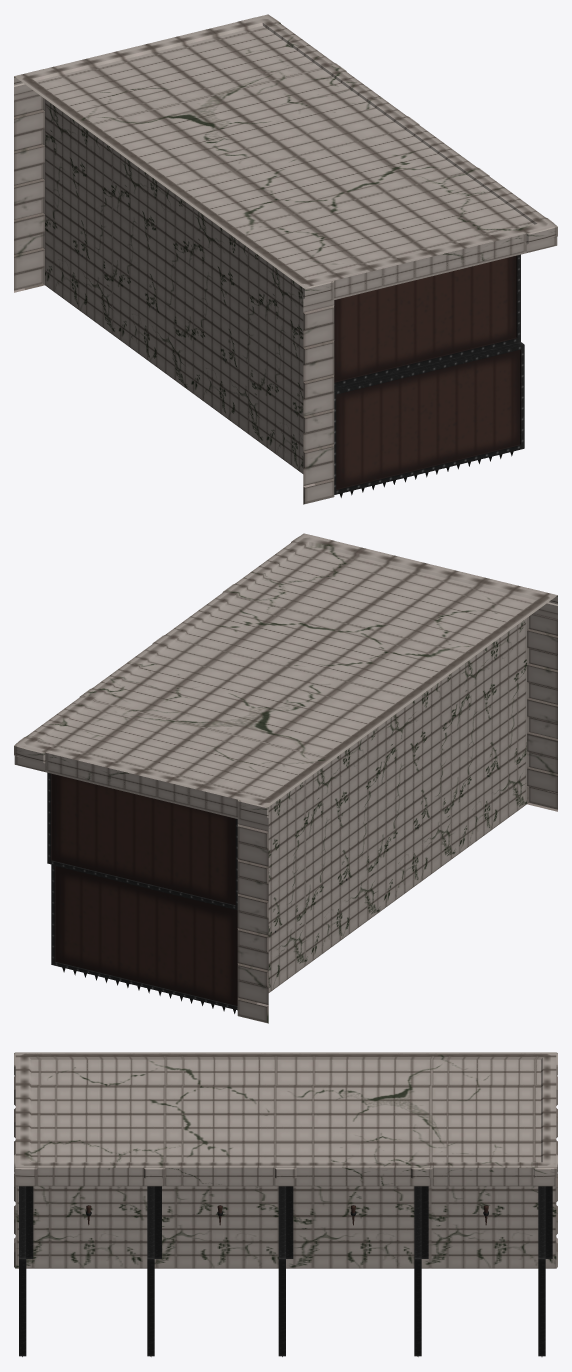
The model's file is templopuertas.fbx.
The picture shows the model from 3 angles, top to bottom: view 1: azimuth 30°, elevation 25°; view 2: azimuth 150°, elevation 25°; view 3: azimuth 270°, elevation 25°; orthographic projection. The views are drawn at different scales.
Visible parts, largest first — view 1: templo, polySurface3, puertasuperior1; view 2: templo, polySurface23, puertasuperior5; view 3: templo, polySurface23, polySurface22, polySurface20, polySurface21, polySurface3, puertasuperior1, puertasuperior2, puertasuperior3, puertasuperior4, puertasuperior5.
Boxes of the visible parts, x1,y1,x2,y2 form: templo: [14, 14, 557, 504]; polySurface3: [334, 342, 524, 494]; puertasuperior1: [334, 254, 520, 387]; templo: [14, 533, 557, 1023]; polySurface23: [51, 864, 237, 1010]; puertasuperior5: [47, 772, 237, 909]; templo: [14, 1052, 557, 1268]; polySurface23: [538, 1186, 545, 1356]; polySurface22: [414, 1186, 421, 1356]; polySurface20: [147, 1186, 154, 1356]; polySurface21: [278, 1186, 285, 1356]; polySurface3: [19, 1186, 26, 1356]; puertasuperior1: [26, 1186, 33, 1258]; puertasuperior2: [154, 1186, 161, 1258]; puertasuperior3: [421, 1186, 428, 1258]; puertasuperior4: [286, 1186, 293, 1258]; puertasuperior5: [545, 1186, 552, 1258].
Bounding box in the file's own units: 21.49 × 17.95 × 42.4.
